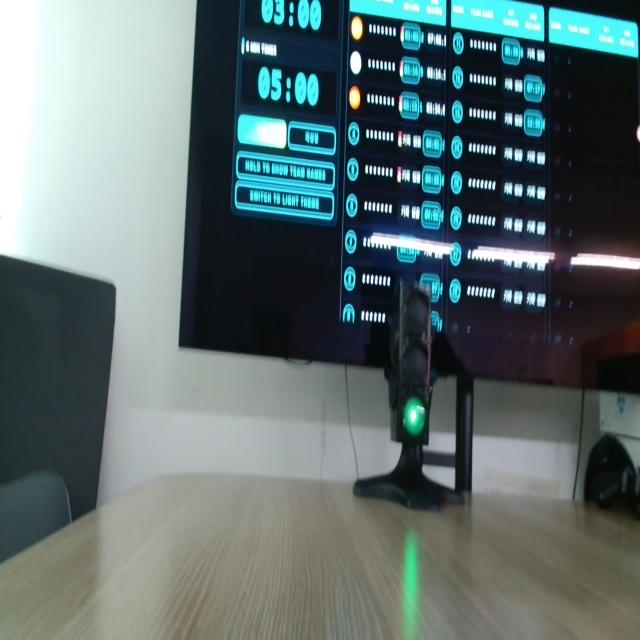green_light: (404, 397, 426, 437)
